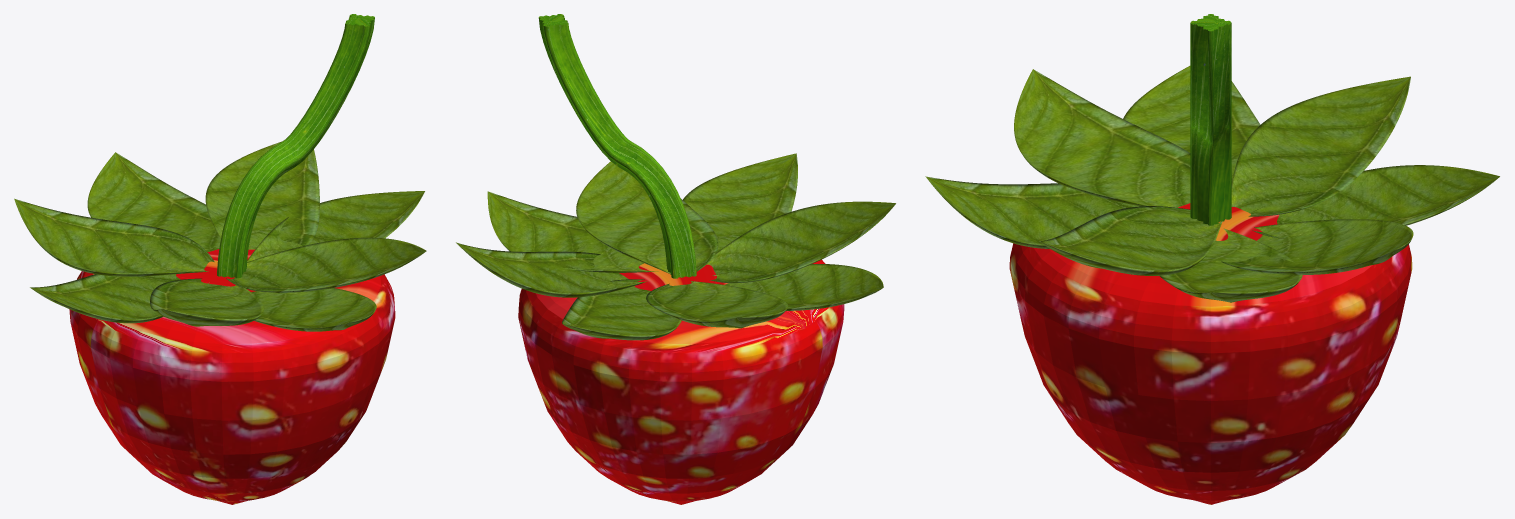
The model's file is Strawberry.fbx.
The picture shows the model from 3 angles, left to right: view 1: azimuth 30°, elevation 25°; view 2: azimuth 150°, elevation 25°; view 3: azimuth 270°, elevation 25°; orthographic projection. The views are drawn at different scales.
Parts seen in each view (by area): view 1: Body, Sheet.005, Stem, Sheet.007, Sheet.004, Sheet.008, Sheet, Sheet.002, Sheet.006, Sheet.003; view 2: Body, Stem, Sheet.006, Sheet.007, Sheet.003, Sheet, Sheet.008, Sheet.005, Sheet.004, Sheet.002; view 3: Body, Sheet.005, Sheet.006, Sheet.007, Stem, Sheet.004, Sheet.003, Sheet.008, Sheet, Sheet.002.
Boxes of the visible parts, x1,y1,x2,y2 form: Body: (69,249,395,504); Sheet.005: (14,198,214,276); Stem: (217,14,374,278); Sheet.007: (226,237,426,292); Sheet.004: (87,152,220,251); Sheet.008: (205,141,319,249); Sheet: (247,191,424,261); Sheet.002: (30,274,209,323); Sheet.006: (150,278,264,326); Sheet.003: (251,288,376,331); Body: (518,259,844,504); Stem: (538,14,696,278); Sheet.006: (707,201,895,283); Sheet.007: (576,161,718,273); Sheet.003: (683,153,797,252); Sheet: (487,191,658,272); Sheet.008: (456,242,646,297); Sheet.005: (646,281,788,328); Sheet.004: (562,279,681,340); Sheet.002: (712,264,883,310); Body: (1009,203,1412,504); Sheet.005: (1231,76,1410,216); Sheet.006: (1014,69,1190,207); Sheet.007: (1039,206,1222,275); Stem: (1190,14,1231,225); Sheet.004: (1251,165,1499,238); Sheet.003: (925,176,1138,248); Sheet.008: (1221,219,1413,274); Sheet: (1159,228,1302,302); Sheet.002: (1123,66,1260,195).
Size of the model in its own units: 0.2743 by 0.28 by 0.3004.
3 materials, 3 textured.
